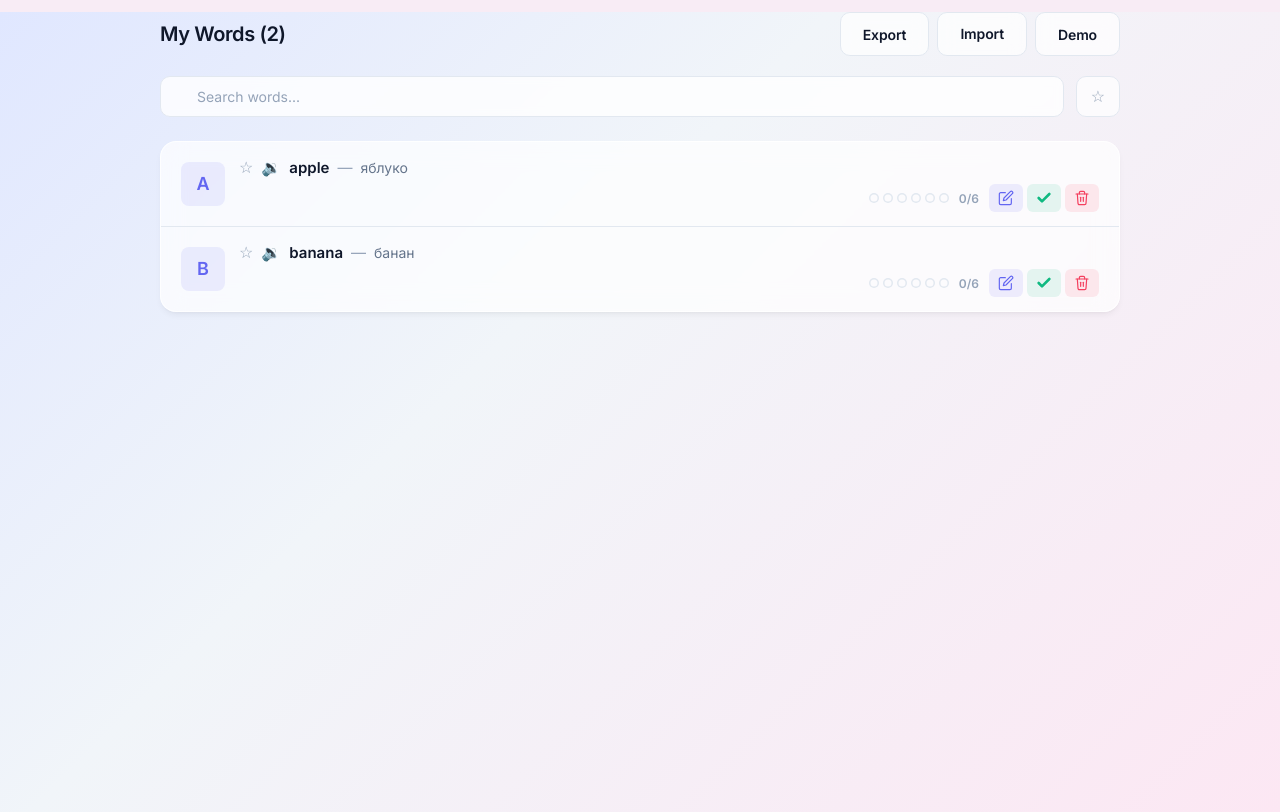
Test: WordList › filters words by search
The width and height of the screenshot is (1280, 812).
Type "apple" into the field with placeholder "Search words..." at (612, 97), box top-left (160, 76), bottom-right (1064, 117)
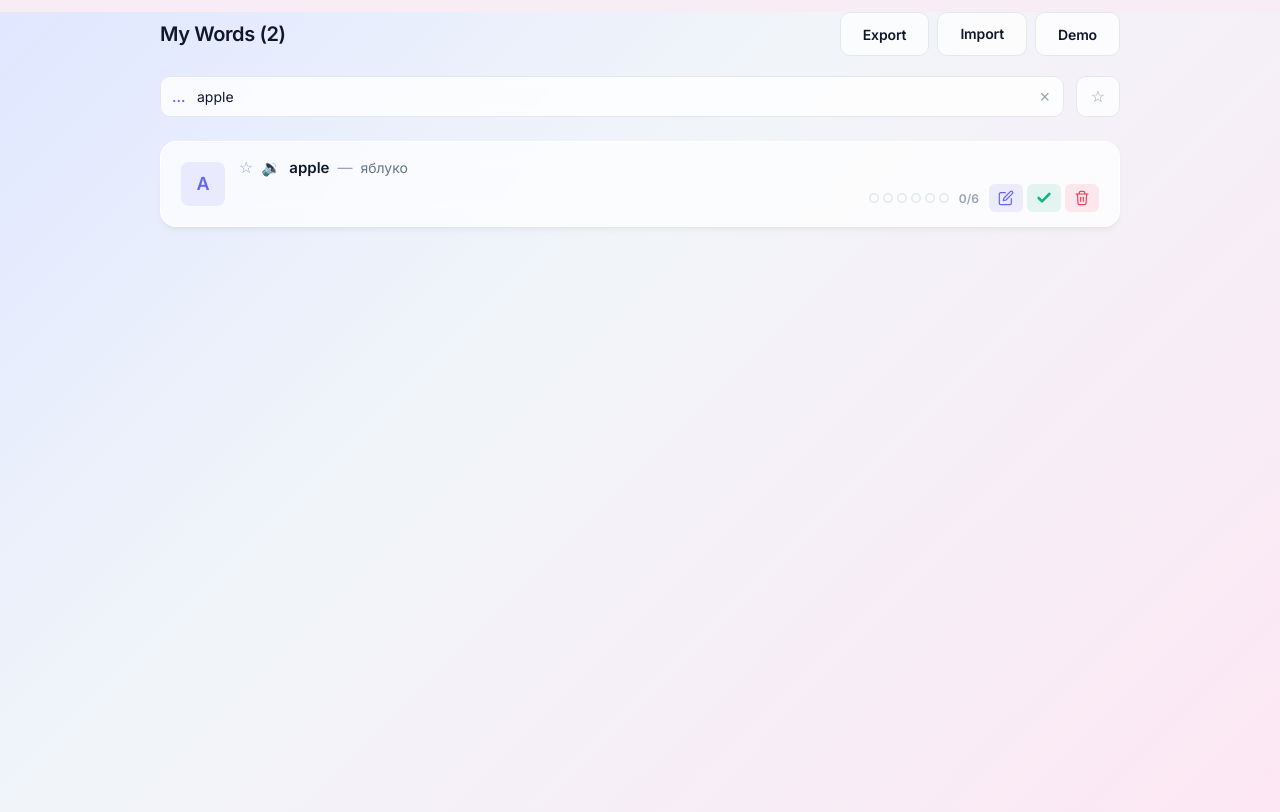
Expected: the text "apple" is shown, top-left (289, 156), bottom-right (329, 180)
Result: the text "banana" is gone
